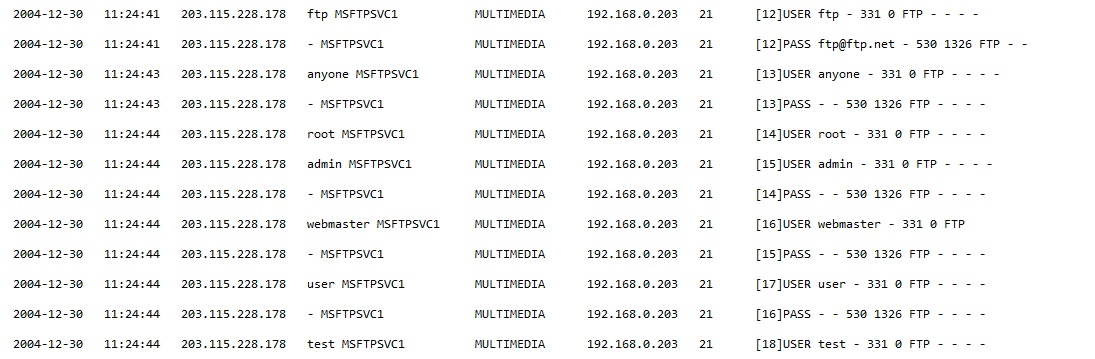table: (8, 4, 1035, 359)
